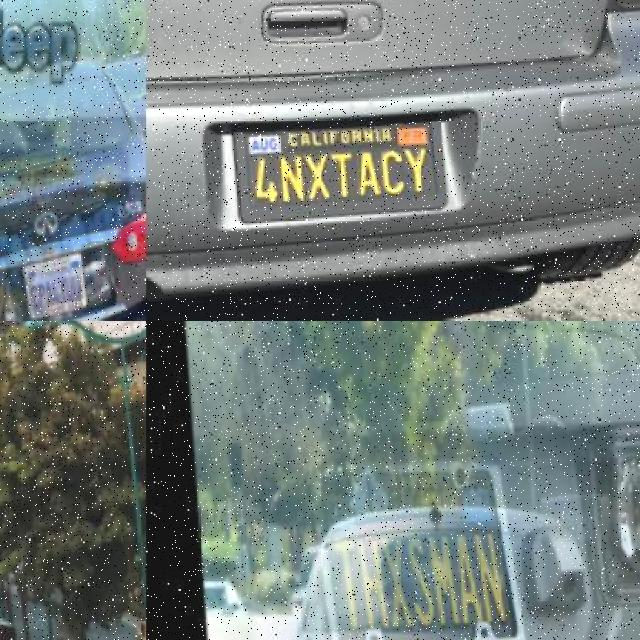licenseplate: (234, 102, 455, 219), (26, 241, 91, 310), (0, 637, 3, 640)
